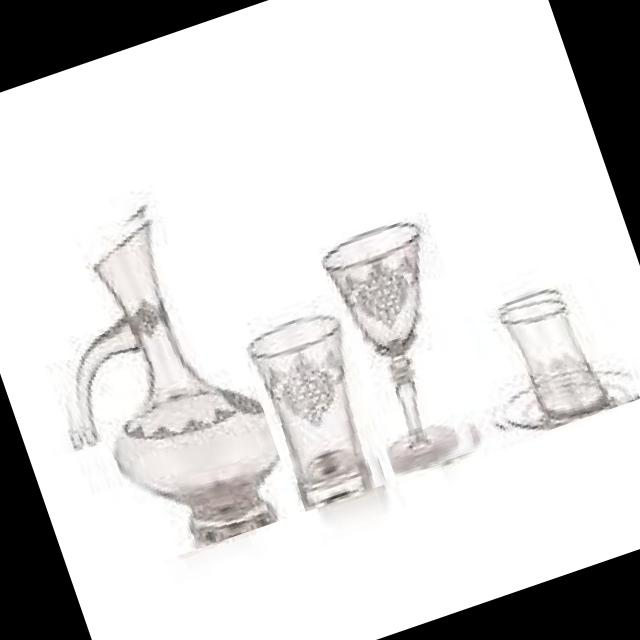Glass: (2, 186, 301, 577), (316, 213, 498, 480), (238, 303, 396, 514), (454, 270, 640, 447)
